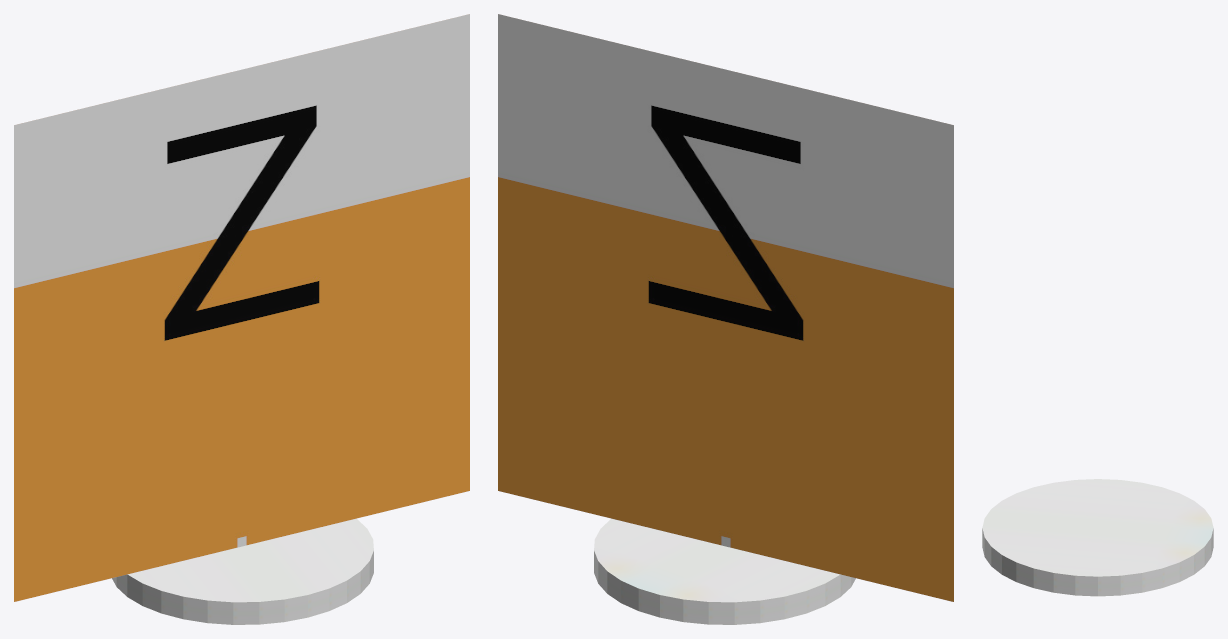
The picture shows the model from 3 angles, left to right: view 1: azimuth 30°, elevation 25°; view 2: azimuth 150°, elevation 25°; view 3: azimuth 270°, elevation 25°; orthographic projection. The views are drawn at different scales.
Visible parts, largest first — view 1: face-inv, face, base25m; view 2: face-inv, face, base25m; view 3: base25m.
Part boxes in pixels (box(x1,y1,x2,y2)): face-inv: box(14, 14, 469, 601); face: box(15, 14, 469, 601); base25m: box(112, 518, 373, 624); face-inv: box(498, 14, 953, 601); face: box(498, 14, 953, 600); base25m: box(594, 518, 855, 624); base25m: box(982, 479, 1213, 596).
Size of the model in its own units: 2 by 2.09 by 1.01.
2 materials, 2 textured.
